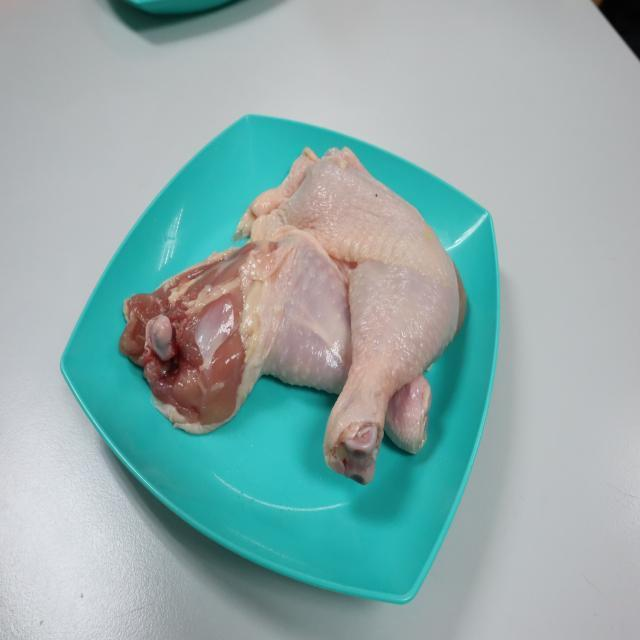quater: (124, 230, 434, 436), (279, 142, 447, 467)
